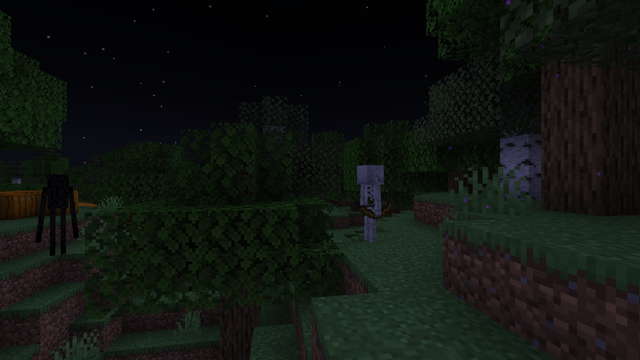endermens: (40, 171, 74, 256)
squelettes: (355, 165, 384, 243)
